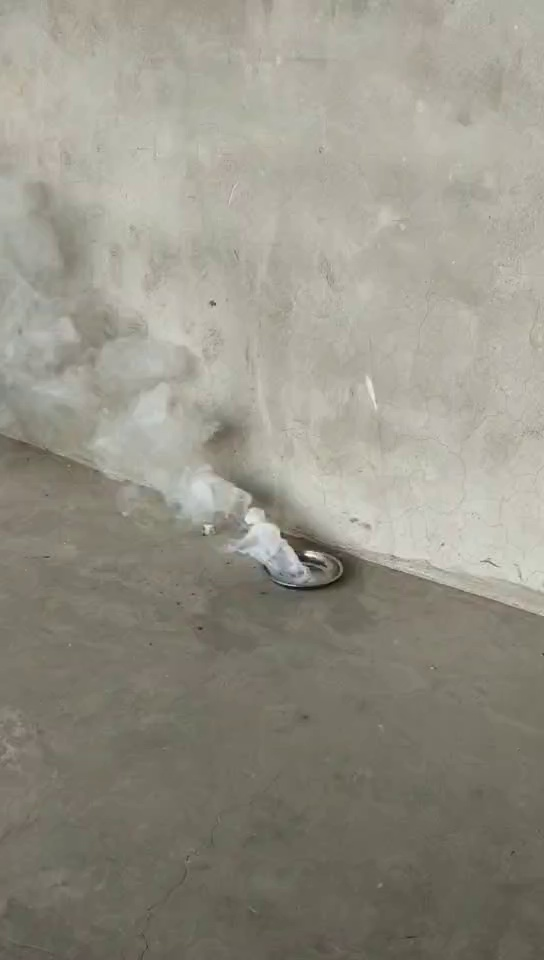yanwu: (62, 340, 291, 571)
